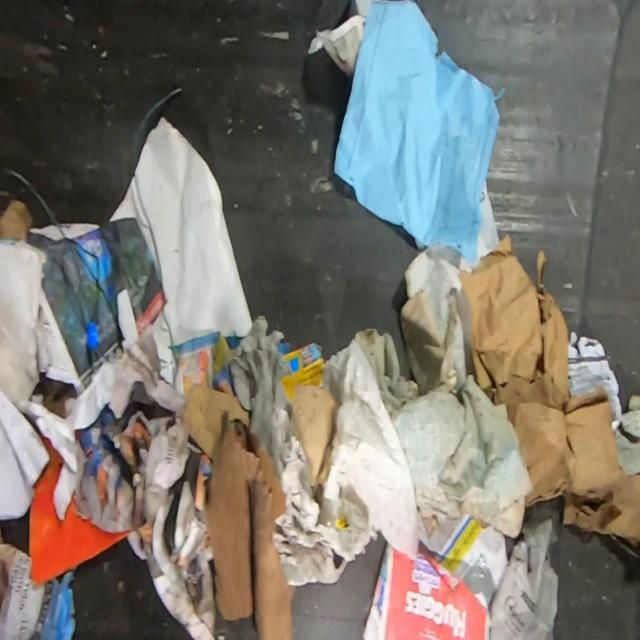cardboard: (458, 233, 640, 546), (28, 435, 132, 584), (290, 384, 339, 509), (568, 330, 622, 432), (180, 383, 251, 457)
soft_plastic: (488, 515, 559, 640)
